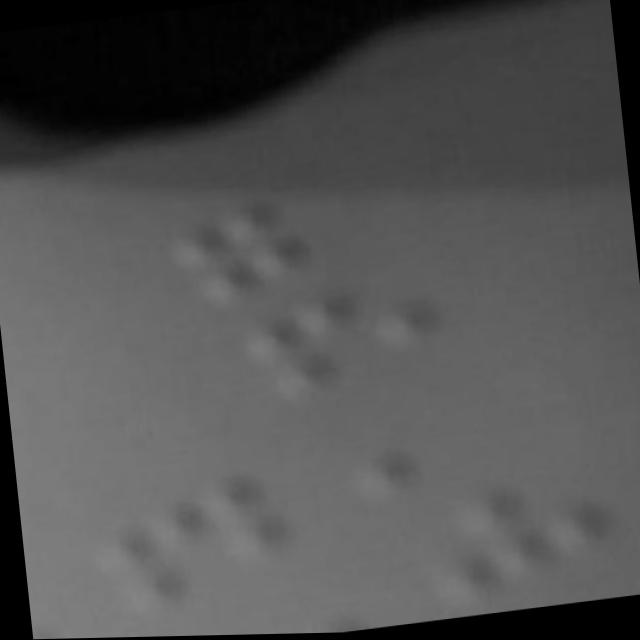braiile: (159, 143, 387, 307), (93, 465, 284, 616), (416, 463, 614, 608), (234, 272, 441, 400), (192, 579, 365, 637)
